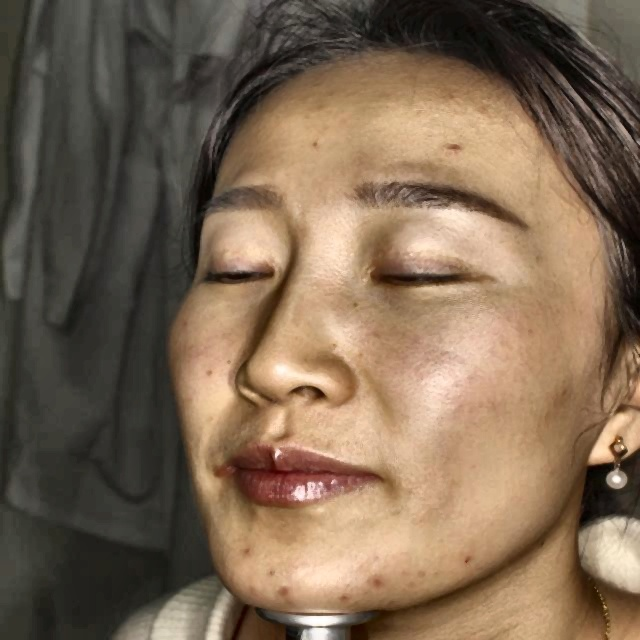comedone: (275, 578, 301, 602), (366, 573, 391, 593), (443, 134, 459, 156)
